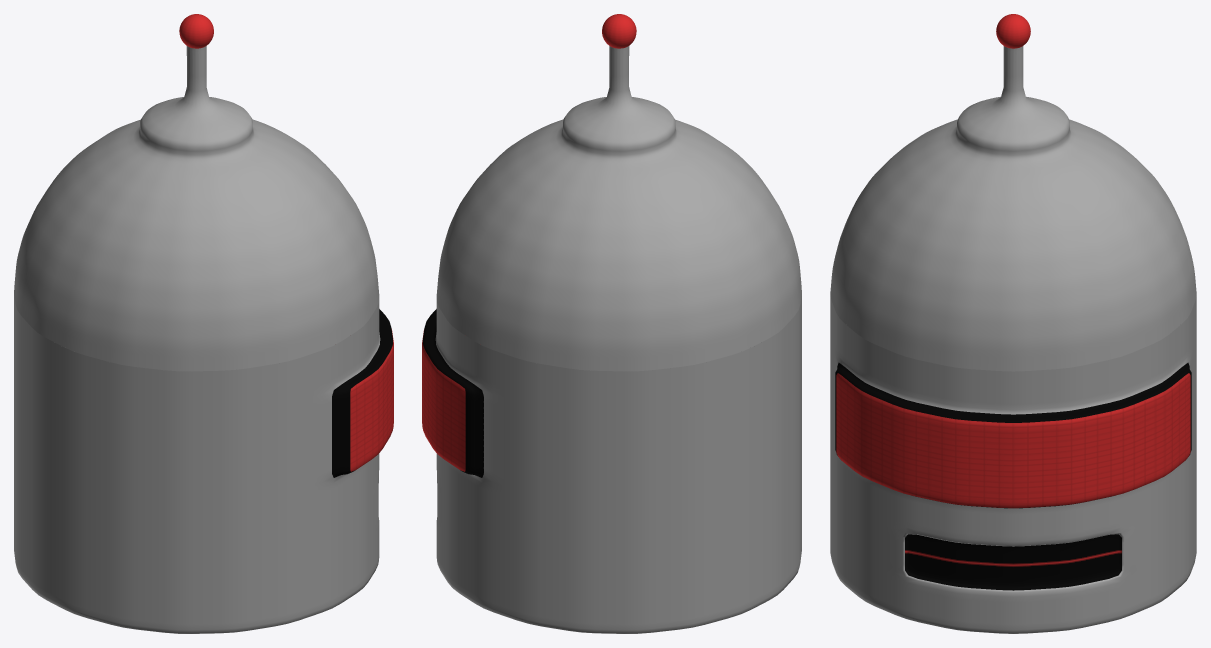
Rendered from robotHead.fbx.
The picture shows the model from 3 angles, left to right: view 1: azimuth 30°, elevation 25°; view 2: azimuth 150°, elevation 25°; view 3: azimuth 270°, elevation 25°; orthographic projection.
Visible parts, largest first — view 1: robotHead; view 2: robotHead; view 3: robotHead.
Part boxes in pixels (x1,y1,x2,y2): robotHead: (14,14,393,633); robotHead: (422,14,801,633); robotHead: (830,14,1196,633).
Size of the model in its own units: 2.46 by 3.86 by 2.36.
Materials: 1 (1 with a texture image).
